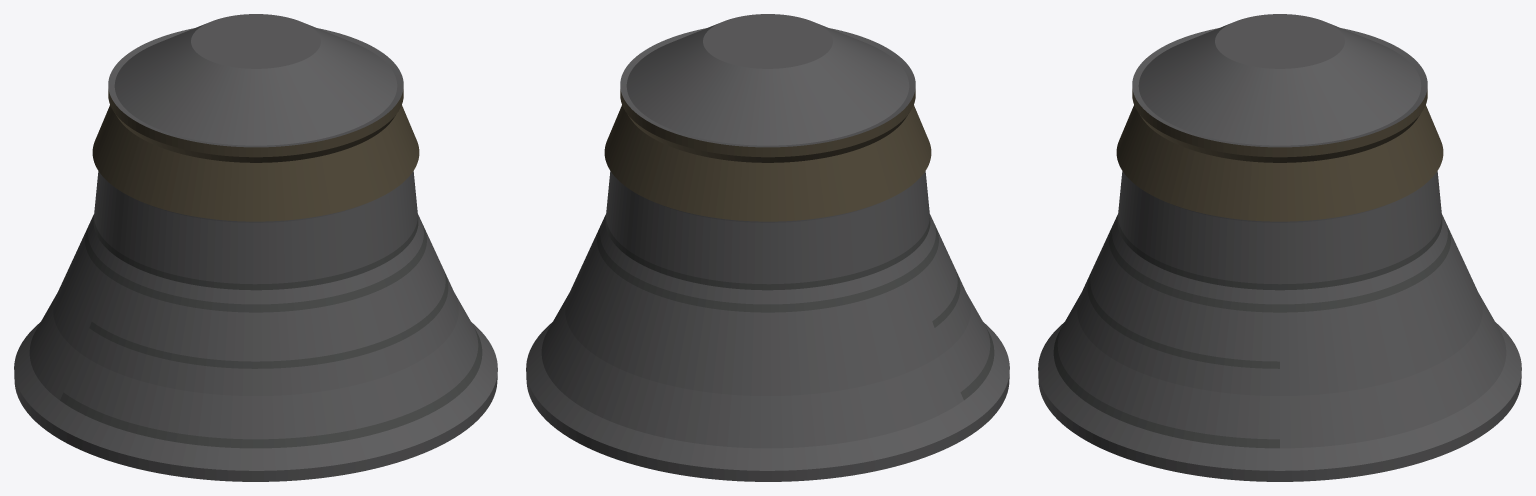
The model's file is kolokol.fbx.
The picture shows the model from 3 angles, left to right: view 1: azimuth 30°, elevation 25°; view 2: azimuth 150°, elevation 25°; view 3: azimuth 270°, elevation 25°; orthographic projection.
Parts seen in each view (by area): view 1: Цилиндр; view 2: Цилиндр; view 3: Цилиндр.
Part boxes in pixels (x1,y1,x2,y2): Цилиндр: [14, 14, 497, 481]; Цилиндр: [526, 14, 1009, 481]; Цилиндр: [1038, 14, 1521, 481].
Bounding box in the file's own units: 310 × 297 × 310.
